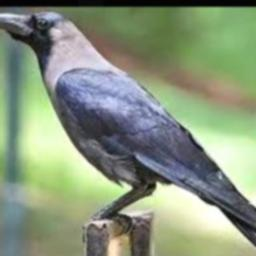Crow: (0, 12, 256, 256)
